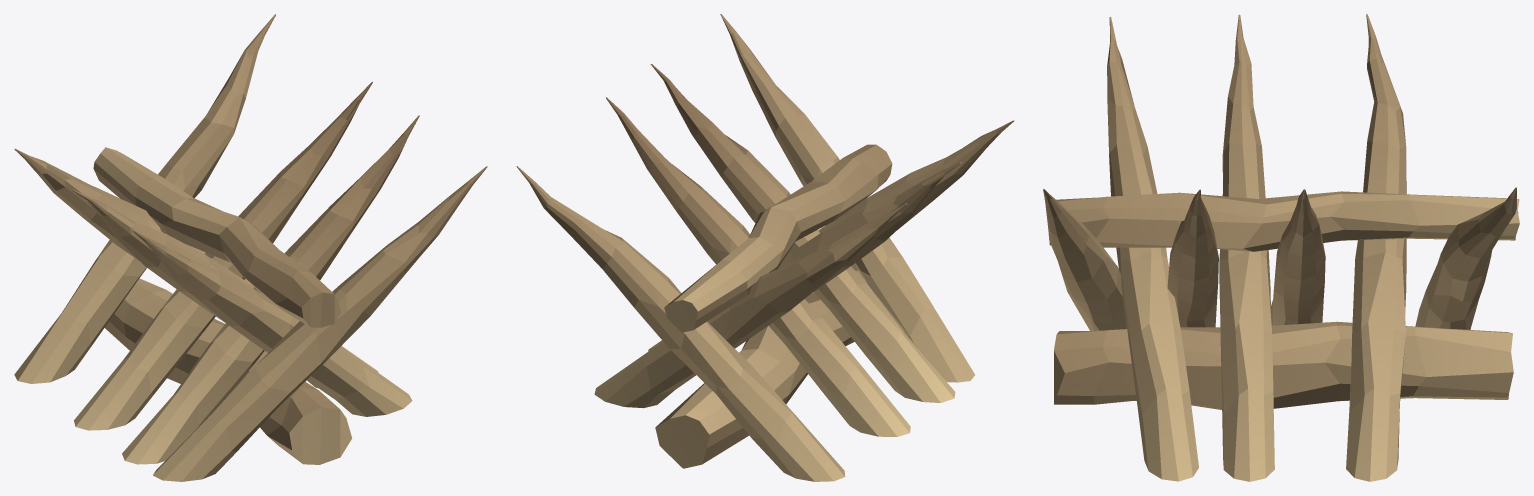
The model's file is spike.glb.
3 views of the same model, side by side, from view 1: azimuth 30°, elevation 25°; view 2: azimuth 150°, elevation 25°; view 3: azimuth 270°, elevation 25° (orthographic). The views are drawn at different scales.
Visible parts, largest first — view 1: spike; view 2: spike; view 3: spike.
Boxes of the visible parts, x1,y1,x2,y2 form: spike: (14, 14, 487, 481); spike: (516, 14, 1014, 481); spike: (1043, 14, 1519, 481).
Bounding box in the file's own units: 1.93 × 1.49 × 2.12.
1 material, 1 textured.
